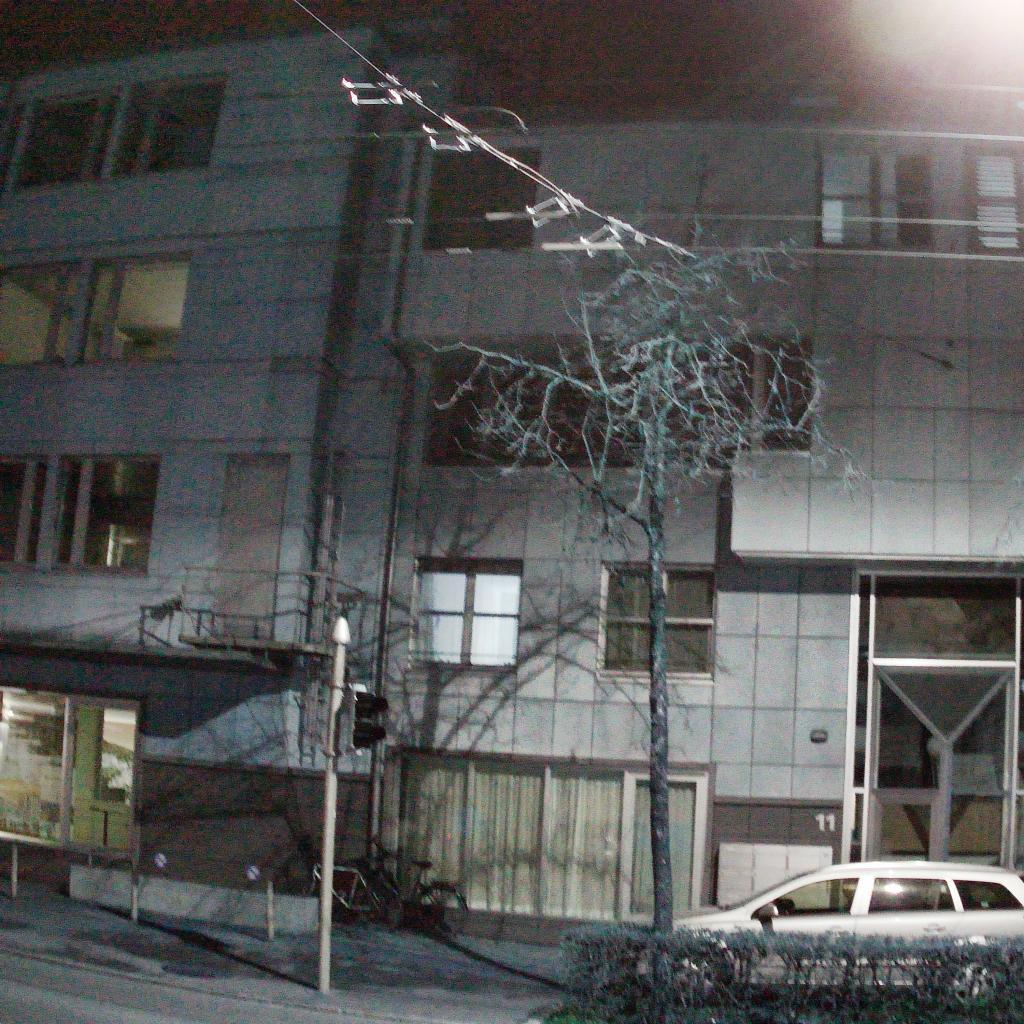balcony-fence: (174, 564, 372, 660)
car: (673, 859, 1024, 936)
facade: (0, 2, 1024, 915)
fence: (138, 872, 266, 929), (69, 862, 130, 909), (275, 894, 319, 932)
street: (3, 837, 561, 1024)
traffic-infrastructure: (318, 614, 390, 994)
vegetation: (419, 221, 878, 923), (536, 920, 1024, 1024)
window: (374, 745, 656, 918), (813, 123, 1024, 256), (426, 365, 649, 467), (209, 451, 292, 638), (597, 561, 716, 677), (406, 555, 524, 670), (421, 147, 540, 248), (56, 460, 159, 573), (116, 82, 225, 172), (733, 334, 811, 451), (0, 264, 78, 361), (14, 99, 100, 186), (110, 264, 188, 356), (668, 763, 711, 907), (0, 462, 46, 566)
